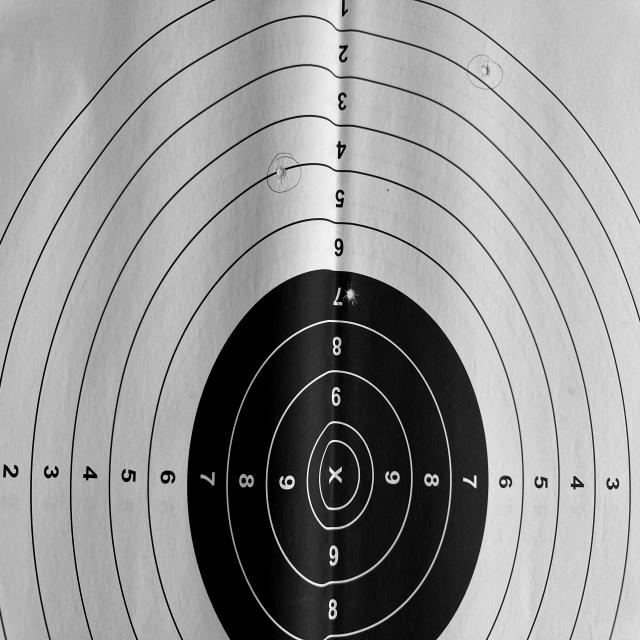bullet: (274, 159, 288, 185), (478, 58, 492, 82), (346, 288, 354, 302)
target: (0, 0, 640, 640)
